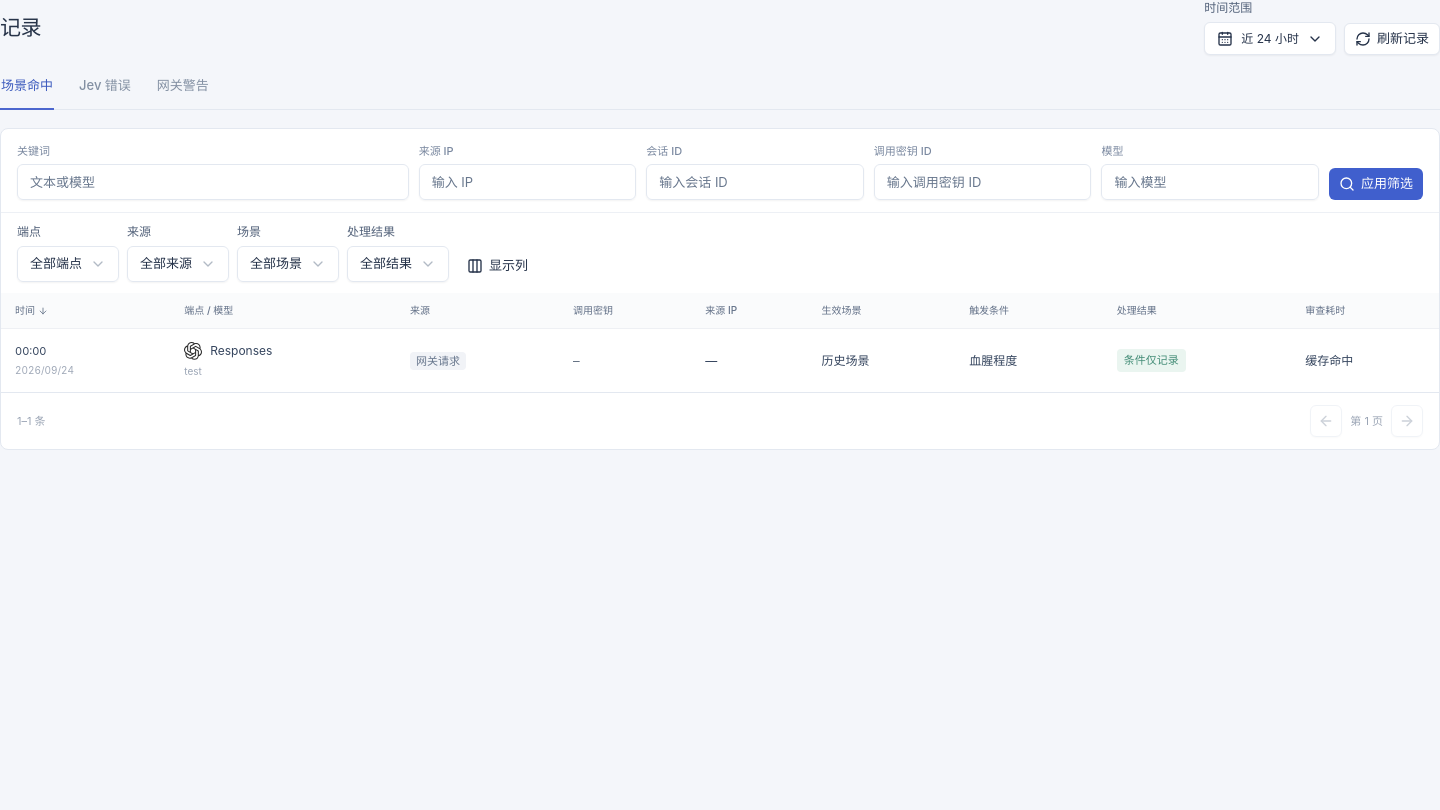
explains cached condition-only recording without inventing scores
The width and height of the screenshot is (1440, 810).
Check: the text "条件仅记录" is shown, box [1117,349,1186,372]
Click the row named "查看请求 request-1" at {"x": 720, "y": 360}, box [1,328,1439,392]
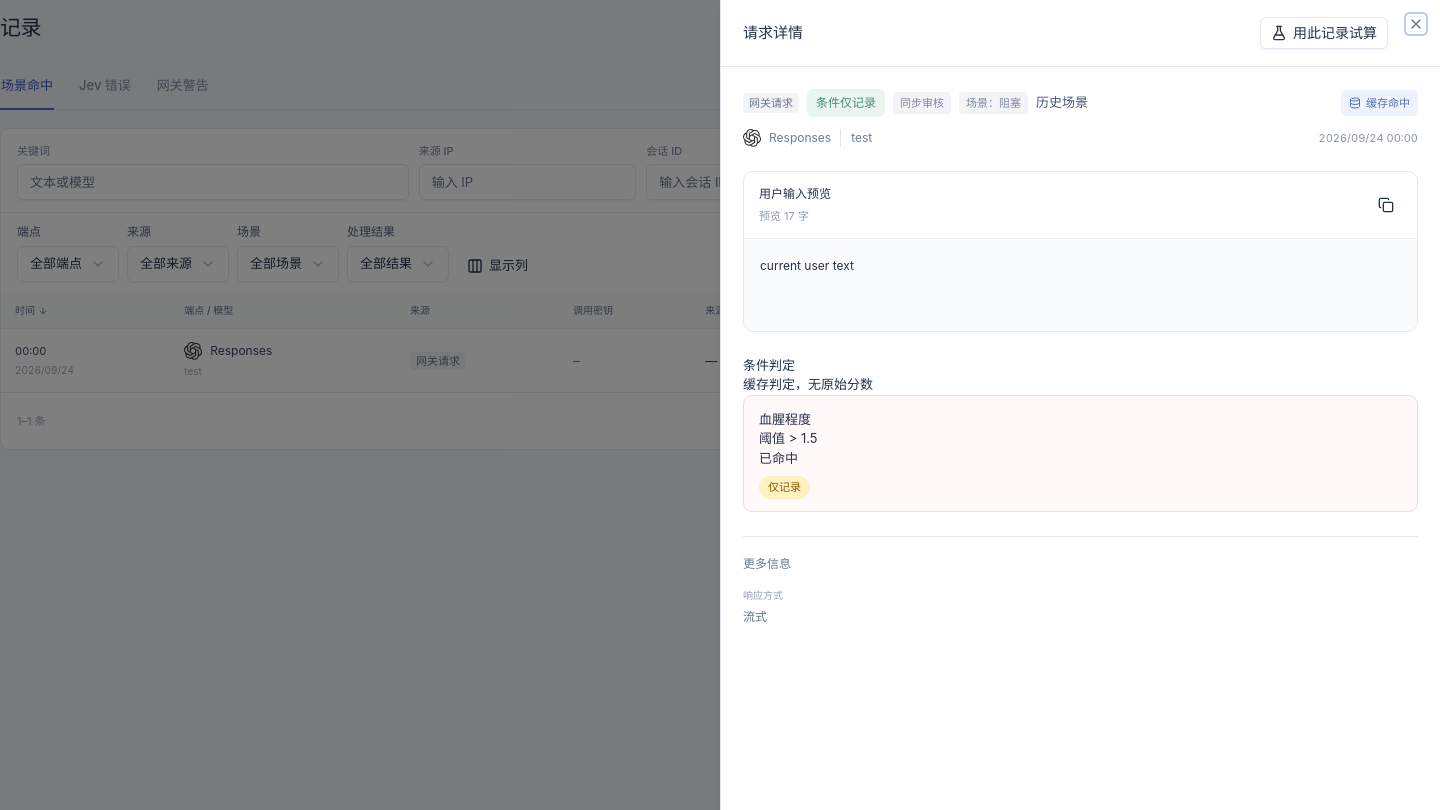
Check: the text "缓存判定，无原始分数" is shown, box [743,376,873,392]
